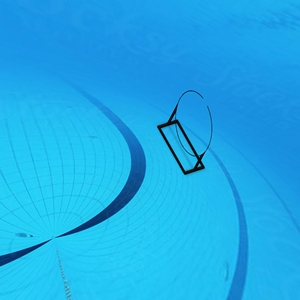circle: (157, 88, 225, 179)
